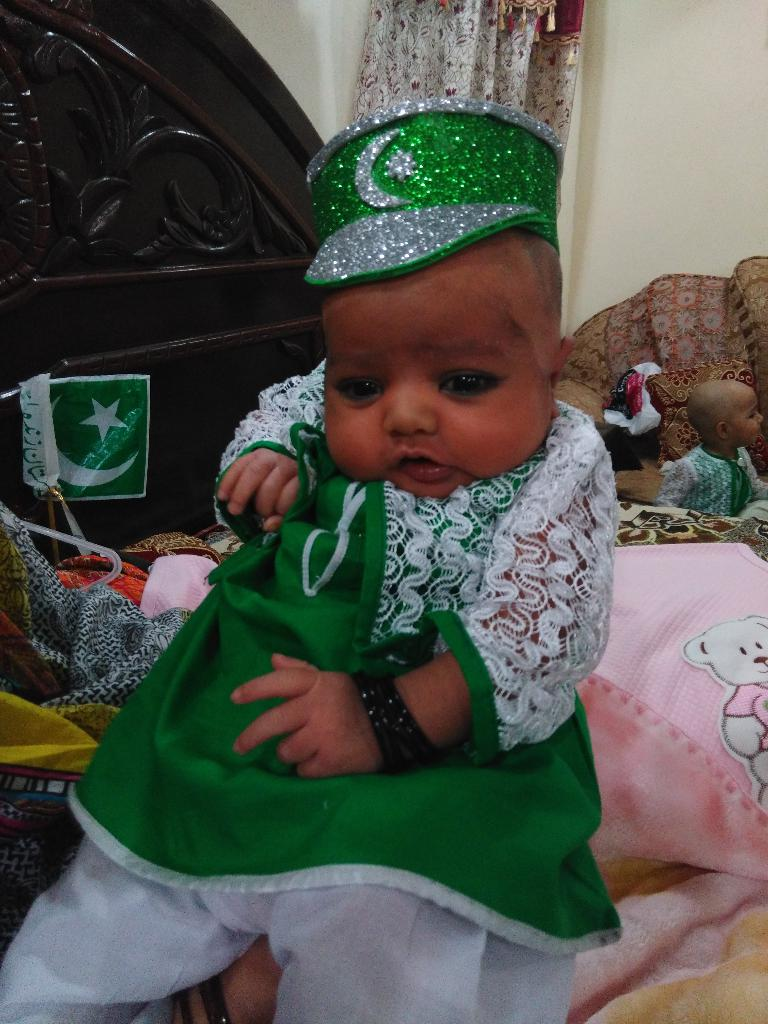Person: (0, 96, 615, 1023), (653, 378, 767, 515)
